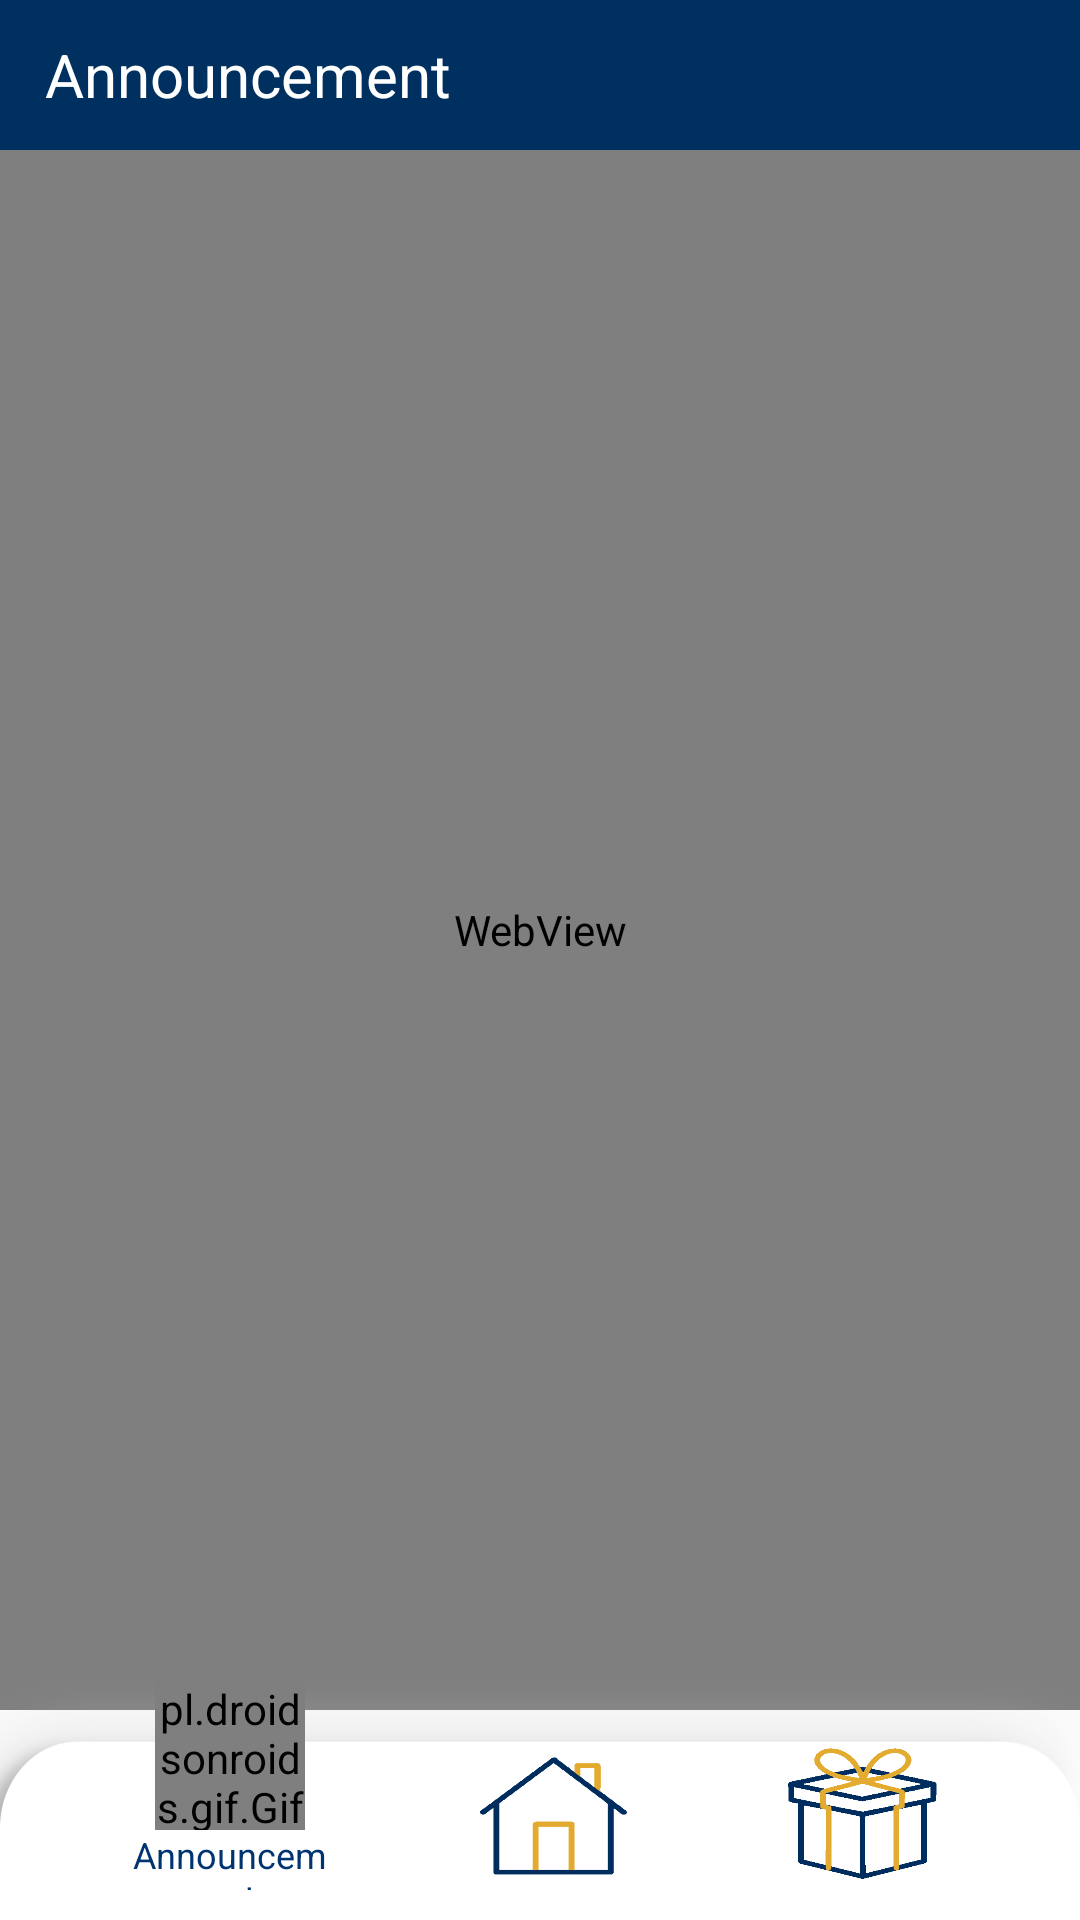

Icons on this 1080px×1920px Android screen, each with its box as (x1, y1, x2, y2):
home bt: (480, 1757, 627, 1875)
